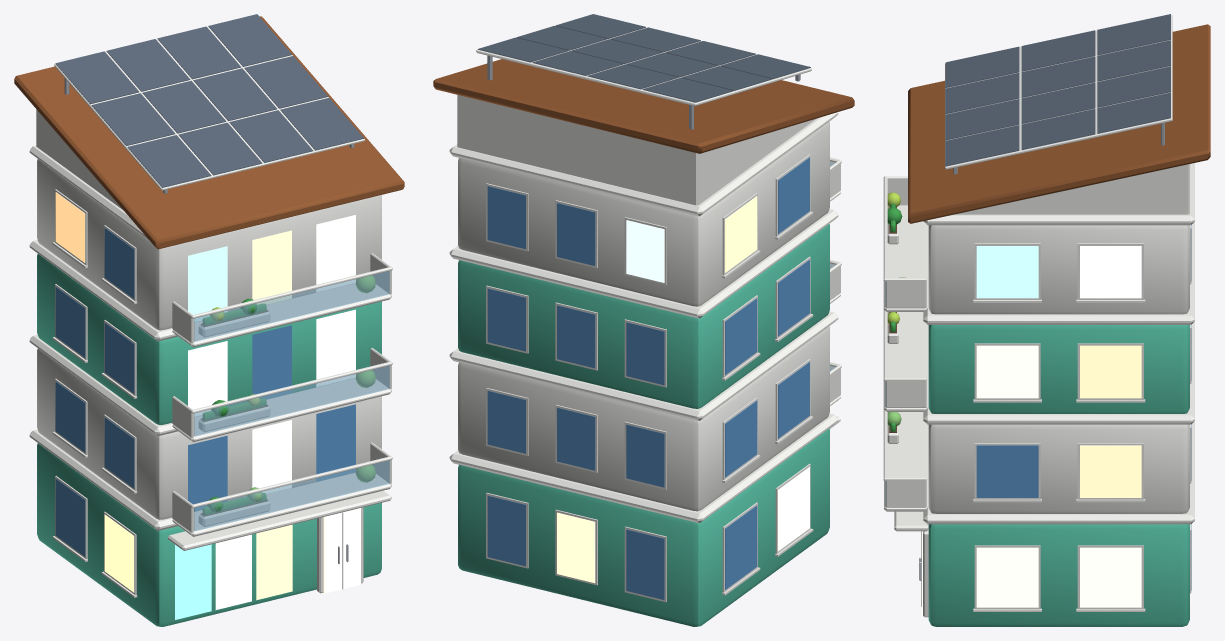
The model's file is predinho_varandas_solar_menta.glb.
The picture shows the model from 3 angles, left to right: view 1: azimuth 30°, elevation 25°; view 2: azimuth 150°, elevation 25°; view 3: azimuth 270°, elevation 25°; orthographic projection. The views are drawn at different scales.
Visible parts, largest first — view 1: predinho_varandas_solar_menta; view 2: predinho_varandas_solar_menta; view 3: predinho_varandas_solar_menta.
Boxes of the visible parts, bbox=[...] form: predinho_varandas_solar_menta: bbox=[14, 14, 404, 626]; predinho_varandas_solar_menta: bbox=[433, 14, 854, 626]; predinho_varandas_solar_menta: bbox=[883, 14, 1210, 626].
Size of the model in its own units: 8.8 by 16.23 by 9.51.
8 materials, 1 textured.
